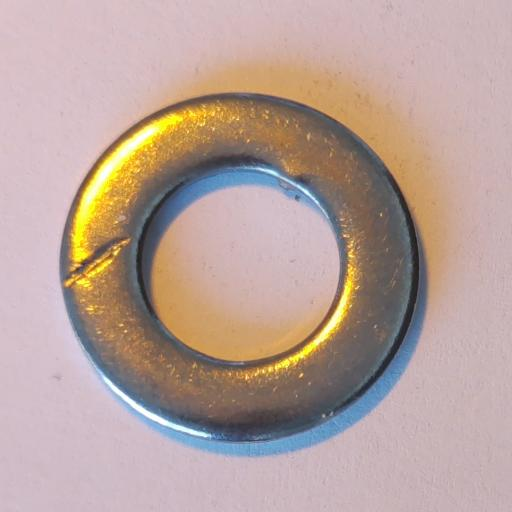scratch: (63, 238, 131, 290)
